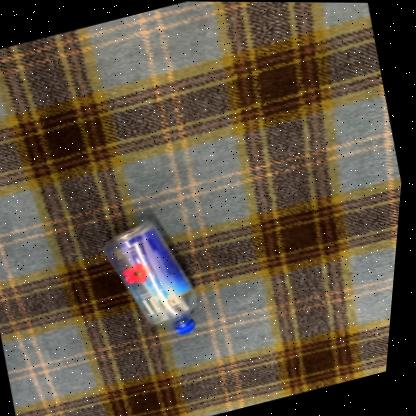Plastic: (106, 219, 200, 332)
